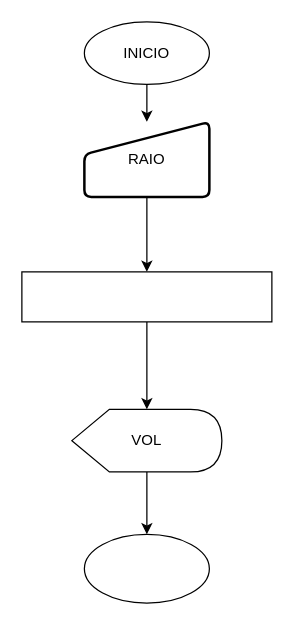
Image size: 294x625. Some labels were removed from this diagram. The shapes that lost their labels are listed below. From the top down, each one's centre as x and y in pixels, then its label:
At point 146,296: "VOL<- (4/3) *3.14159* (RAIO^3)".
At point 146,568: "FIM".
